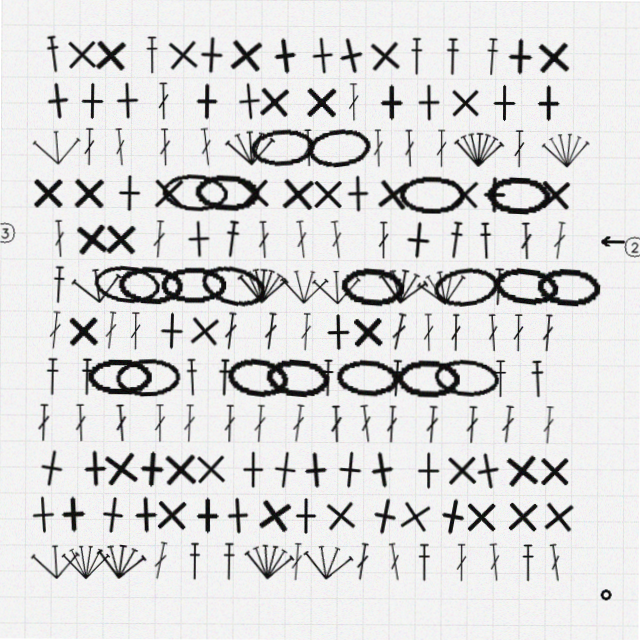chain: (197, 260, 269, 312), (431, 263, 501, 309), (304, 125, 373, 170), (92, 263, 161, 308), (491, 263, 560, 308), (225, 355, 292, 400), (264, 356, 331, 399), (433, 356, 500, 399), (248, 127, 316, 169), (160, 173, 228, 214), (339, 265, 405, 307), (335, 357, 401, 399), (193, 173, 259, 214), (117, 265, 183, 306), (535, 265, 601, 306), (115, 358, 182, 398), (485, 174, 550, 214), (398, 175, 464, 213), (160, 267, 226, 305), (396, 358, 460, 397), (87, 359, 152, 397)
double: (389, 312, 409, 351), (152, 542, 171, 581), (387, 542, 405, 581), (197, 128, 214, 167), (293, 220, 310, 259), (328, 220, 345, 259), (222, 312, 239, 351), (262, 312, 279, 351), (358, 404, 375, 443), (500, 404, 517, 443), (355, 542, 372, 581), (548, 542, 565, 581), (551, 220, 567, 259), (47, 312, 63, 351), (103, 312, 119, 351), (291, 404, 307, 443), (488, 542, 504, 581), (112, 129, 127, 167), (151, 221, 166, 259), (256, 221, 271, 259), (114, 405, 129, 443), (253, 405, 268, 443), (425, 405, 440, 443), (465, 405, 480, 443), (157, 129, 171, 167), (52, 221, 66, 259), (519, 221, 533, 259), (299, 313, 313, 351), (486, 313, 500, 351), (541, 313, 555, 351), (37, 405, 51, 443), (74, 405, 88, 443), (183, 405, 197, 443), (223, 405, 237, 443), (330, 405, 344, 443), (542, 405, 556, 443), (291, 543, 305, 581), (156, 83, 169, 121), (346, 83, 359, 121), (82, 129, 95, 167), (301, 129, 314, 167), (371, 129, 384, 167), (402, 129, 415, 167), (434, 129, 447, 167), (512, 129, 525, 167), (129, 313, 142, 351), (422, 313, 435, 351), (512, 313, 525, 351), (154, 405, 167, 443), (386, 405, 399, 443), (456, 543, 469, 581), (377, 221, 389, 259), (450, 313, 462, 351)
fan: (414, 263, 470, 309), (375, 263, 430, 308), (70, 264, 124, 308), (95, 540, 149, 584), (243, 540, 297, 583), (302, 540, 356, 583), (223, 127, 276, 168), (236, 265, 289, 306), (30, 127, 82, 168), (452, 128, 504, 168), (539, 128, 591, 168), (31, 542, 83, 582), (311, 266, 362, 306), (279, 266, 329, 305), (62, 543, 112, 581)
half_double: (222, 220, 241, 259), (446, 220, 465, 259), (43, 36, 61, 75), (490, 267, 507, 305), (483, 37, 499, 75), (217, 359, 233, 397), (389, 359, 405, 397), (530, 359, 546, 397), (143, 37, 158, 75), (408, 37, 423, 75), (444, 37, 459, 75), (478, 221, 493, 259), (51, 267, 66, 305), (45, 359, 60, 397), (185, 359, 200, 397), (493, 359, 508, 397), (418, 543, 433, 581), (80, 359, 94, 397), (321, 359, 335, 397), (189, 543, 203, 581), (223, 543, 237, 581), (522, 543, 536, 581)
noise: (622, 233, 640, 258), (0, 222, 17, 247), (598, 235, 625, 245), (601, 587, 614, 600)
single: (327, 33, 372, 78), (467, 448, 511, 492), (364, 494, 408, 538), (394, 494, 438, 538), (432, 494, 476, 538), (31, 448, 74, 491), (100, 448, 143, 491), (361, 448, 404, 491), (254, 494, 297, 537), (263, 35, 305, 77), (36, 81, 78, 123), (371, 173, 413, 215), (70, 219, 112, 261), (265, 449, 307, 491), (93, 495, 135, 537), (161, 35, 202, 76), (224, 35, 265, 76), (301, 35, 342, 76), (363, 35, 404, 76), (228, 81, 269, 122), (397, 219, 438, 260), (184, 311, 225, 352), (330, 449, 371, 490), (502, 449, 543, 490), (321, 495, 362, 536), (539, 495, 580, 536), (89, 36, 129, 76), (532, 36, 572, 76), (253, 82, 293, 122), (277, 174, 317, 214), (133, 450, 173, 490), (161, 450, 201, 490), (296, 450, 336, 490), (24, 496, 64, 536), (219, 496, 259, 536), (61, 36, 100, 75), (191, 36, 230, 75), (499, 36, 538, 75), (107, 82, 146, 121), (234, 174, 273, 213), (338, 174, 377, 213), (444, 174, 483, 213), (535, 174, 574, 213), (179, 220, 218, 259), (152, 312, 191, 351), (348, 312, 387, 351), (76, 450, 115, 489), (192, 450, 231, 489), (443, 450, 482, 489), (55, 496, 94, 535), (127, 496, 166, 535), (153, 496, 192, 535), (504, 496, 543, 535), (72, 83, 110, 121), (187, 83, 225, 121), (301, 83, 339, 121), (371, 83, 409, 121), (409, 83, 447, 121), (445, 83, 483, 121), (484, 83, 522, 121), (528, 83, 566, 121), (28, 175, 66, 213), (69, 175, 107, 213), (110, 175, 148, 213), (149, 175, 187, 213), (308, 175, 346, 213), (475, 175, 513, 213), (101, 221, 139, 259), (64, 313, 102, 351), (319, 313, 357, 351), (235, 451, 273, 489), (410, 451, 448, 489), (536, 451, 574, 489), (189, 497, 227, 535), (288, 497, 326, 535), (463, 497, 501, 535)
